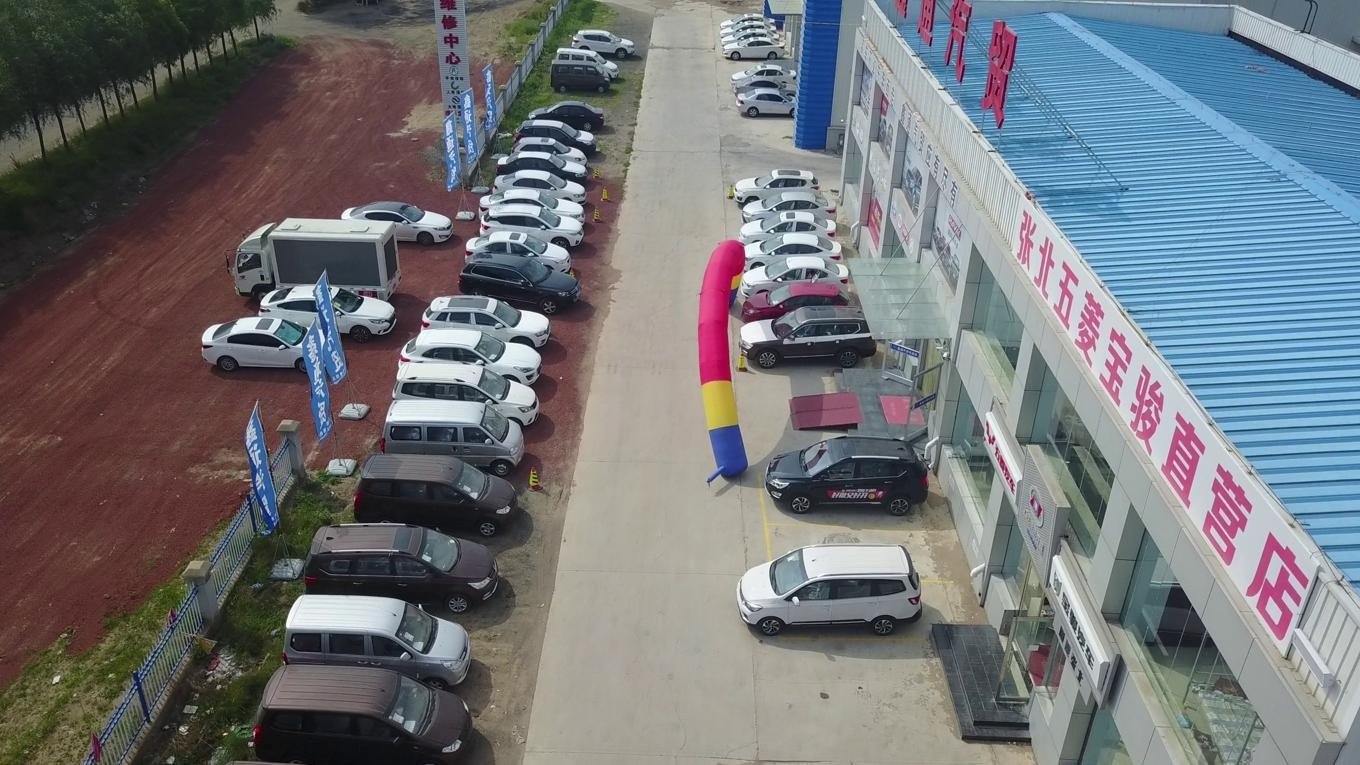car: (764, 435, 927, 516), (388, 330, 542, 390), (736, 304, 876, 365), (258, 284, 395, 341), (419, 294, 552, 352), (196, 318, 332, 374), (454, 252, 578, 313), (342, 198, 454, 246), (464, 231, 574, 276), (738, 282, 857, 323), (477, 204, 584, 249), (734, 255, 854, 294), (477, 188, 585, 228), (737, 235, 845, 271), (739, 213, 837, 248), (494, 169, 587, 203), (735, 169, 820, 205), (494, 152, 591, 183), (742, 192, 833, 222), (516, 119, 596, 153), (511, 137, 589, 167), (527, 101, 605, 131), (736, 88, 805, 121), (574, 29, 637, 56), (736, 77, 802, 101), (723, 36, 786, 60), (735, 63, 797, 85), (721, 28, 786, 48), (719, 13, 777, 31), (721, 21, 779, 37)
truck: (220, 216, 403, 305)
van: (254, 662, 473, 763), (281, 593, 473, 688), (303, 521, 498, 611), (735, 544, 925, 636), (349, 455, 520, 535), (383, 397, 525, 474), (391, 363, 539, 424), (555, 46, 620, 80), (550, 59, 611, 93)
